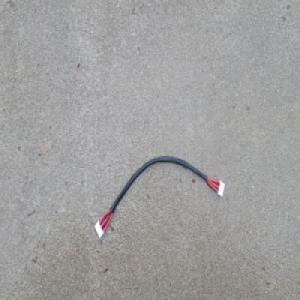Wire: (93, 154, 226, 240)
